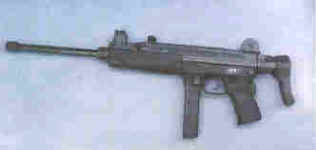rifle: (5, 17, 299, 144)
